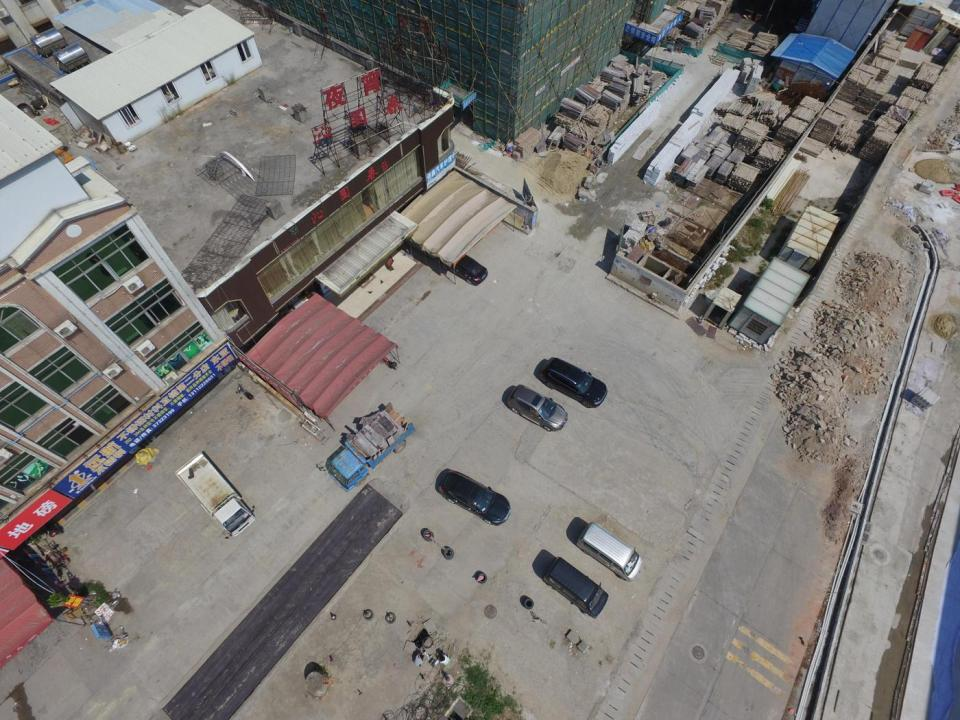car: (434, 468, 511, 525), (540, 357, 608, 408), (507, 384, 568, 430), (442, 254, 488, 285), (235, 383, 255, 401)
van: (319, 401, 416, 491), (175, 452, 255, 539), (543, 556, 609, 618), (576, 522, 643, 580)
